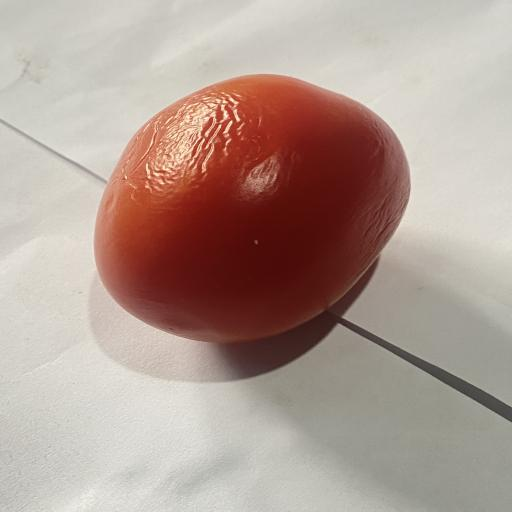spoiled: (94, 75, 410, 342)
